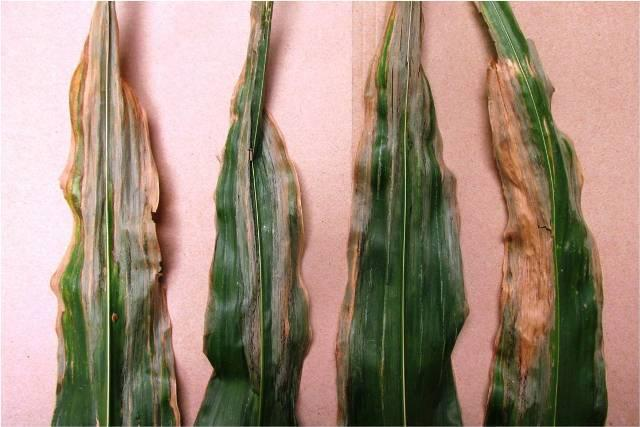Corn leaf blight: (473, 2, 624, 427), (41, 2, 184, 427), (332, 1, 469, 426), (193, 1, 320, 427)
